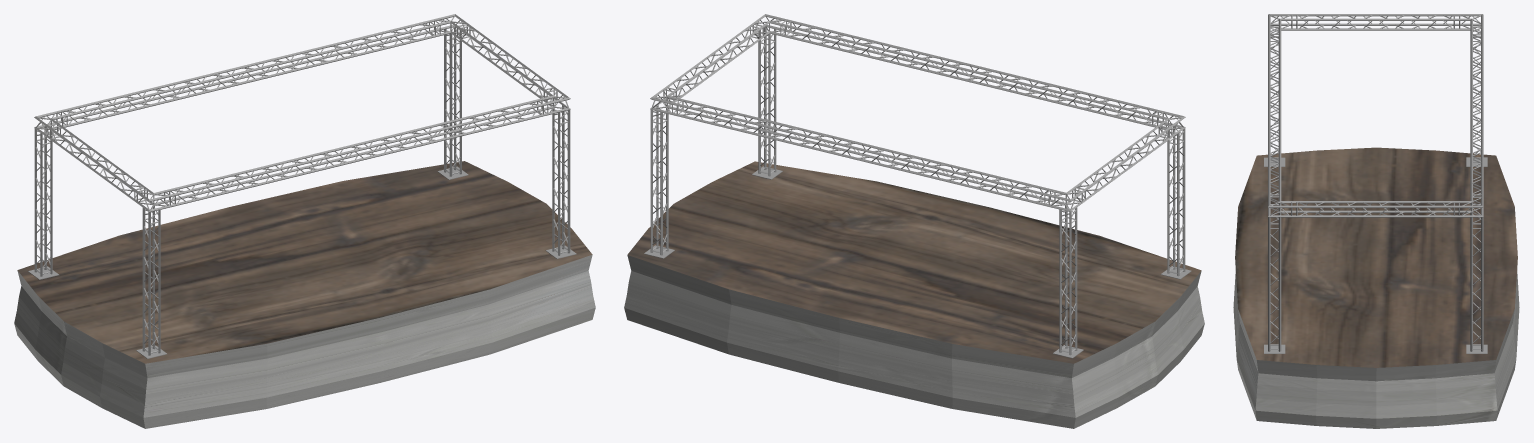
Rendered from stage_complete.dae.
3 views of the same model, side by side, from view 1: azimuth 30°, elevation 25°; view 2: azimuth 150°, elevation 25°; view 3: azimuth 270°, elevation 25° (orthographic). The views are drawn at different scales.
Visible parts, largest first — view 1: Cube, traverse_long, traverse_long.001, pillar.003, pillar.001, pillar.002, pillar, traverse_small.001, traverse_small, corner.003, corner, corner.001 (+1 smaller); view 2: Cube, traverse_long.001, traverse_long, pillar.003, pillar.002, pillar, pillar.001, traverse_small.001, traverse_small, corner.002, corner.001, corner (+1 smaller); view 3: Cube, traverse_small.001, traverse_small, traverse_long.001, traverse_long, pillar.001, pillar, corner, corner.001, corner.003, corner.002, pillar.003 (+1 smaller).
Boxes of the visible parts, box(x1,y1,x2,y2) form: Cube: box(14, 161, 595, 428); traverse_long: box(60, 20, 436, 127); traverse_long.001: box(168, 99, 544, 206); pillar.003: box(136, 220, 166, 358); pillar.001: box(545, 120, 576, 258); pillar.002: box(28, 141, 58, 279); pillar: box(437, 41, 468, 179); traverse_small.001: box(49, 124, 144, 200); traverse_small: box(458, 24, 554, 98); corner.003: box(134, 187, 175, 211); corner: box(429, 14, 470, 38); corner.001: box(537, 87, 570, 115); Cube: box(624, 161, 1204, 428); traverse_long.001: box(783, 20, 1159, 126); traverse_long: box(676, 99, 1051, 205); pillar.003: box(1161, 141, 1191, 279); pillar.002: box(1053, 220, 1083, 358); pillar: box(644, 120, 674, 258); pillar.001: box(752, 41, 782, 179); traverse_small.001: box(1075, 124, 1170, 200); traverse_small: box(666, 24, 761, 100); corner.002: box(1044, 186, 1085, 211); corner.001: box(750, 14, 791, 38); corner: box(650, 87, 683, 115); Cube: box(1233, 147, 1519, 428); traverse_small.001: box(1296, 14, 1455, 30); traverse_small: box(1296, 201, 1455, 217); traverse_long.001: box(1268, 25, 1281, 204); traverse_long: box(1470, 25, 1483, 204); pillar.001: box(1264, 229, 1285, 353); pillar: box(1466, 229, 1487, 353); corner: box(1453, 194, 1483, 217); corner.001: box(1268, 194, 1297, 217); corner.003: box(1268, 14, 1297, 37); corner.002: box(1453, 14, 1483, 37); pillar.003: box(1264, 42, 1285, 166).
Size of the model in its own units: 16.91 by 9.17 by 7.35.
